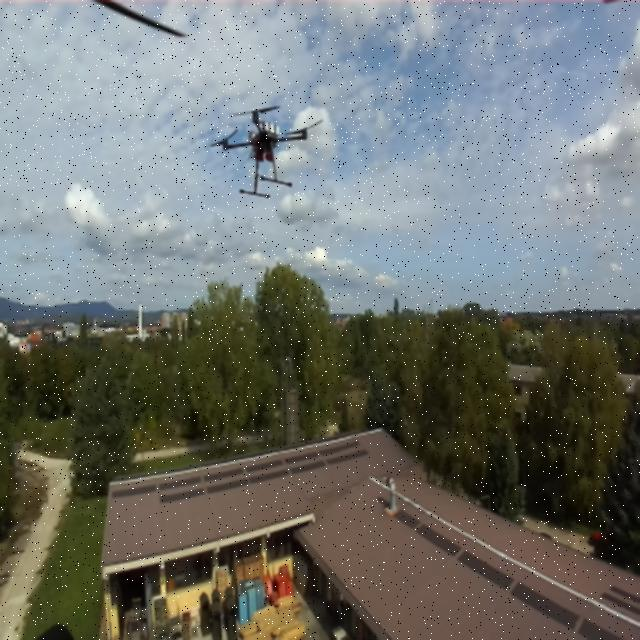UAV: (208, 96, 320, 200)
